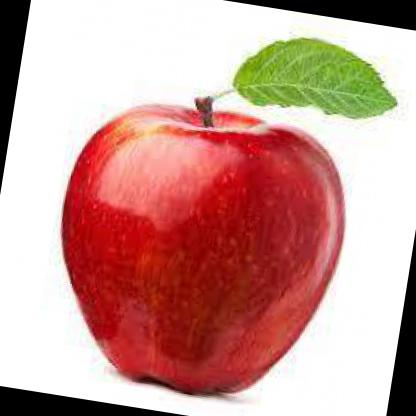apple: (34, 3, 408, 416)
